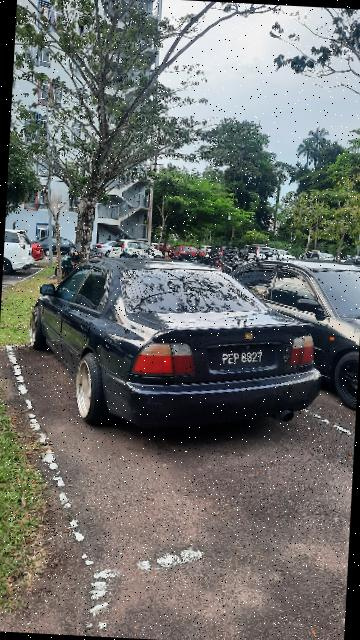License_Plate: (206, 342, 287, 376)
car: (25, 254, 330, 441), (219, 259, 360, 410)
